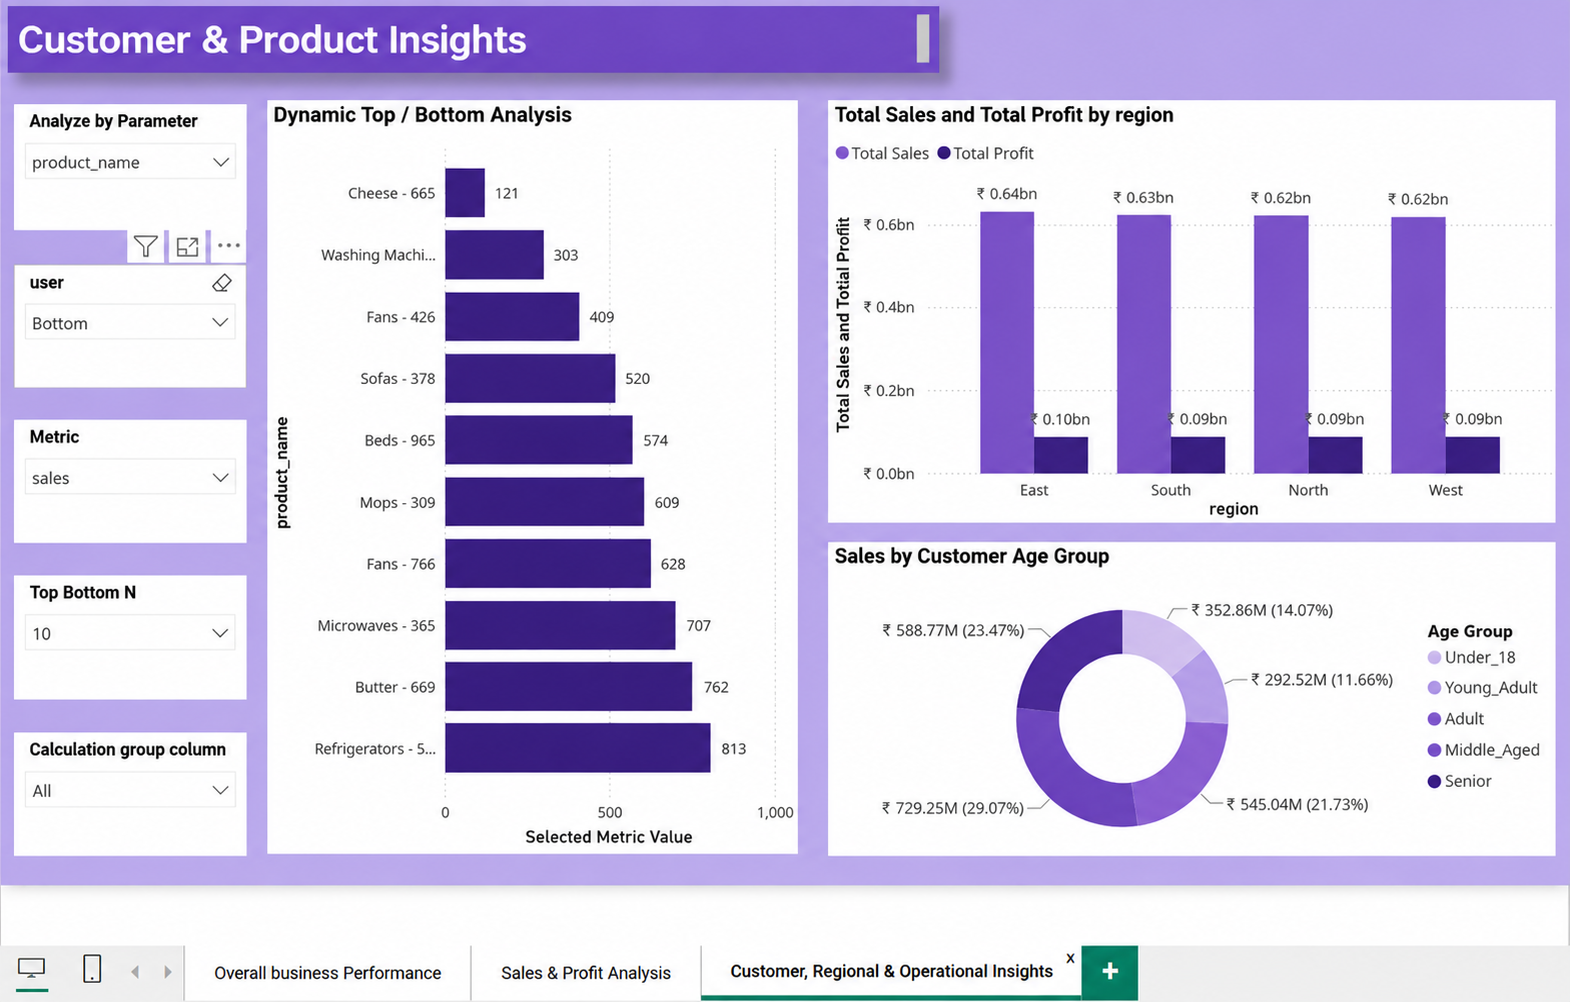

The page's visual inventory and layout, read from the dashboard file:
{"tool":"powerbi","page":{"name":"Customer, Regional & Operational Insights","canvas":[1280,720],"ordinal":2},"visuals":[{"type":"donutChart","title":"Sales by Customer Age Group","fields":{"Category":["Age Group Sort Table.Age Group"],"Y":["_measurement_table.Total Sales"]},"box":[683.4,441.4,582,252.7],"z":0},{"type":"slicer","fields":{"Values":["user_selection.user"]},"box":[7.2,214.3,199.1,101],"z":1000},{"type":"slicer","fields":{"Values":["Metric_Selection.Metric"]},"box":[7.2,340.5,200.5,101],"z":2000},{"type":"slicer","fields":{"Values":["Top Bottom N.Top Bottom N"]},"box":[7.2,466.7,199.1,101],"z":3000},{"type":"slicer","fields":{"Values":["Analyze by Parameter.Analyze by Parameter"]},"box":[7.2,88,200.5,101],"z":4000},{"type":"clusteredBarChart","title":"Dynamic Top / Bottom Analysis","fields":{"Category":["dim_product_table.product_name"],"Y":["_measurement_table.Selected Metric Value"]},"box":[227.5,87.5,432.5,605],"z":5000},{"type":"textbox","box":[8.9,16,760,44.5],"z":6000},{"type":"slicer","fields":{"Values":["Time Intelligence.Calculation group column"]},"box":[7.2,593,200.5,101],"z":7000},{"type":"clusteredColumnChart","fields":{"Category":["dim_location_table.region"],"Y":["_measurement_table.Total Sales","_measurement_table.Total Profit"]},"box":[683,87,582,338],"z":8000}]}

Visuals, with their boxes on the page's 1280x720 design canvas (x1, y1, x2, y2). These are canvas units, not pixel positions in the 1570x1002 screenshot, which may show the page scaled, cropped or inside an application window:
"Sales by Customer Age Group" donutChart: crop(683, 441, 1265, 694)
slicer - user_selection.user: crop(7, 214, 206, 315)
slicer - Metric_Selection.Metric: crop(7, 340, 208, 442)
slicer - Top Bottom N.Top Bottom N: crop(7, 467, 206, 568)
slicer - Analyze by Parameter.Analyze by Parameter: crop(7, 88, 208, 189)
"Dynamic Top / Bottom Analysis" clusteredBarChart: crop(228, 88, 660, 692)
textbox: crop(9, 16, 769, 60)
slicer - Time Intelligence.Calculation group column: crop(7, 593, 208, 694)
clusteredColumnChart - dim_location_table.region x _measurement_table.Total Sales: crop(683, 87, 1265, 425)
